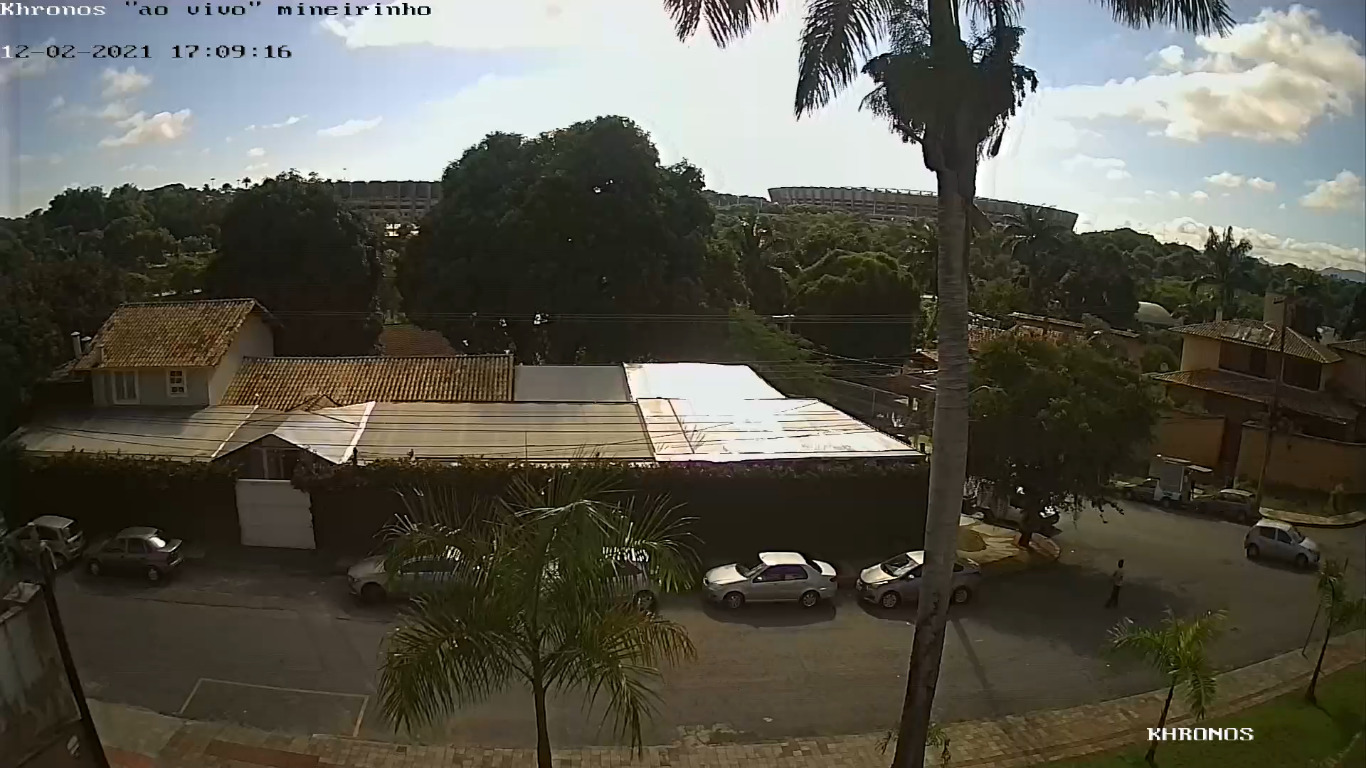car: (699, 550, 840, 609), (851, 550, 984, 611), (82, 525, 189, 580)
